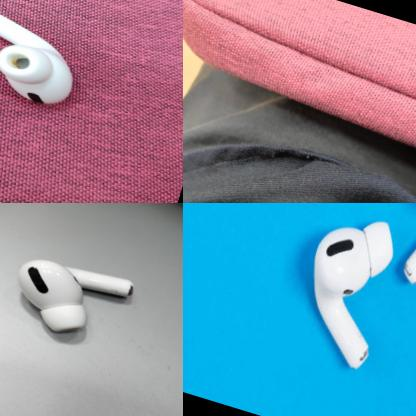Airpods: (284, 203, 407, 378), (0, 243, 144, 363), (0, 0, 100, 127)
